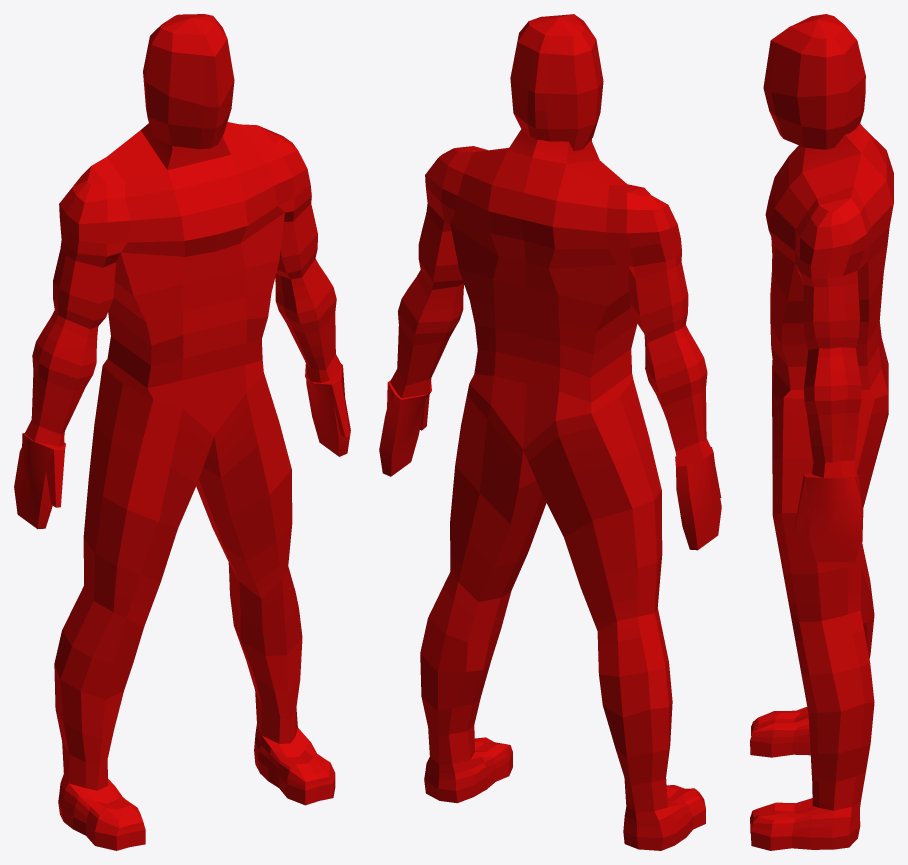
Rendered from Norman_Model.FBX.
3 views of the same model, side by side, from view 1: azimuth 30°, elevation 25°; view 2: azimuth 150°, elevation 25°; view 3: azimuth 270°, elevation 25° (orthographic). The views are drawn at different scales.
Parts seen in each view (by area): view 1: Box002; view 2: Box002; view 3: Box002.
Boxes of the visible parts, box(x1,y1,x2,y2) form: Box002: box(14, 14, 350, 850); Box002: box(379, 14, 721, 850); Box002: box(750, 14, 893, 850).
Bounding box in the file's own units: 19.57 × 46.91 × 7.9.
